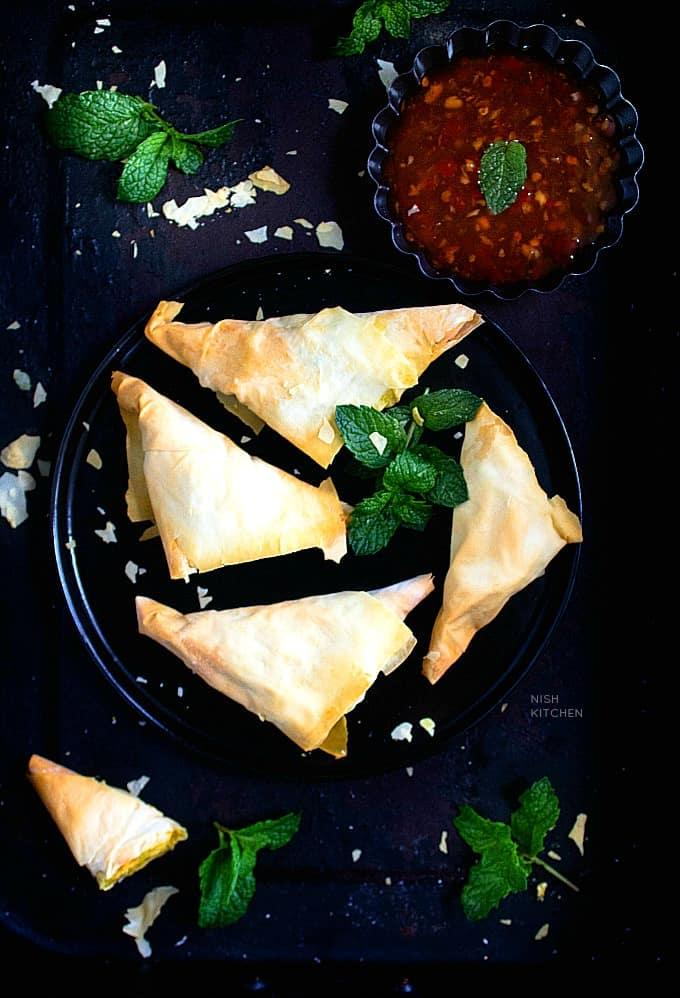samosa: (144, 300, 483, 467), (111, 372, 347, 579), (136, 591, 415, 750), (423, 403, 567, 684)
